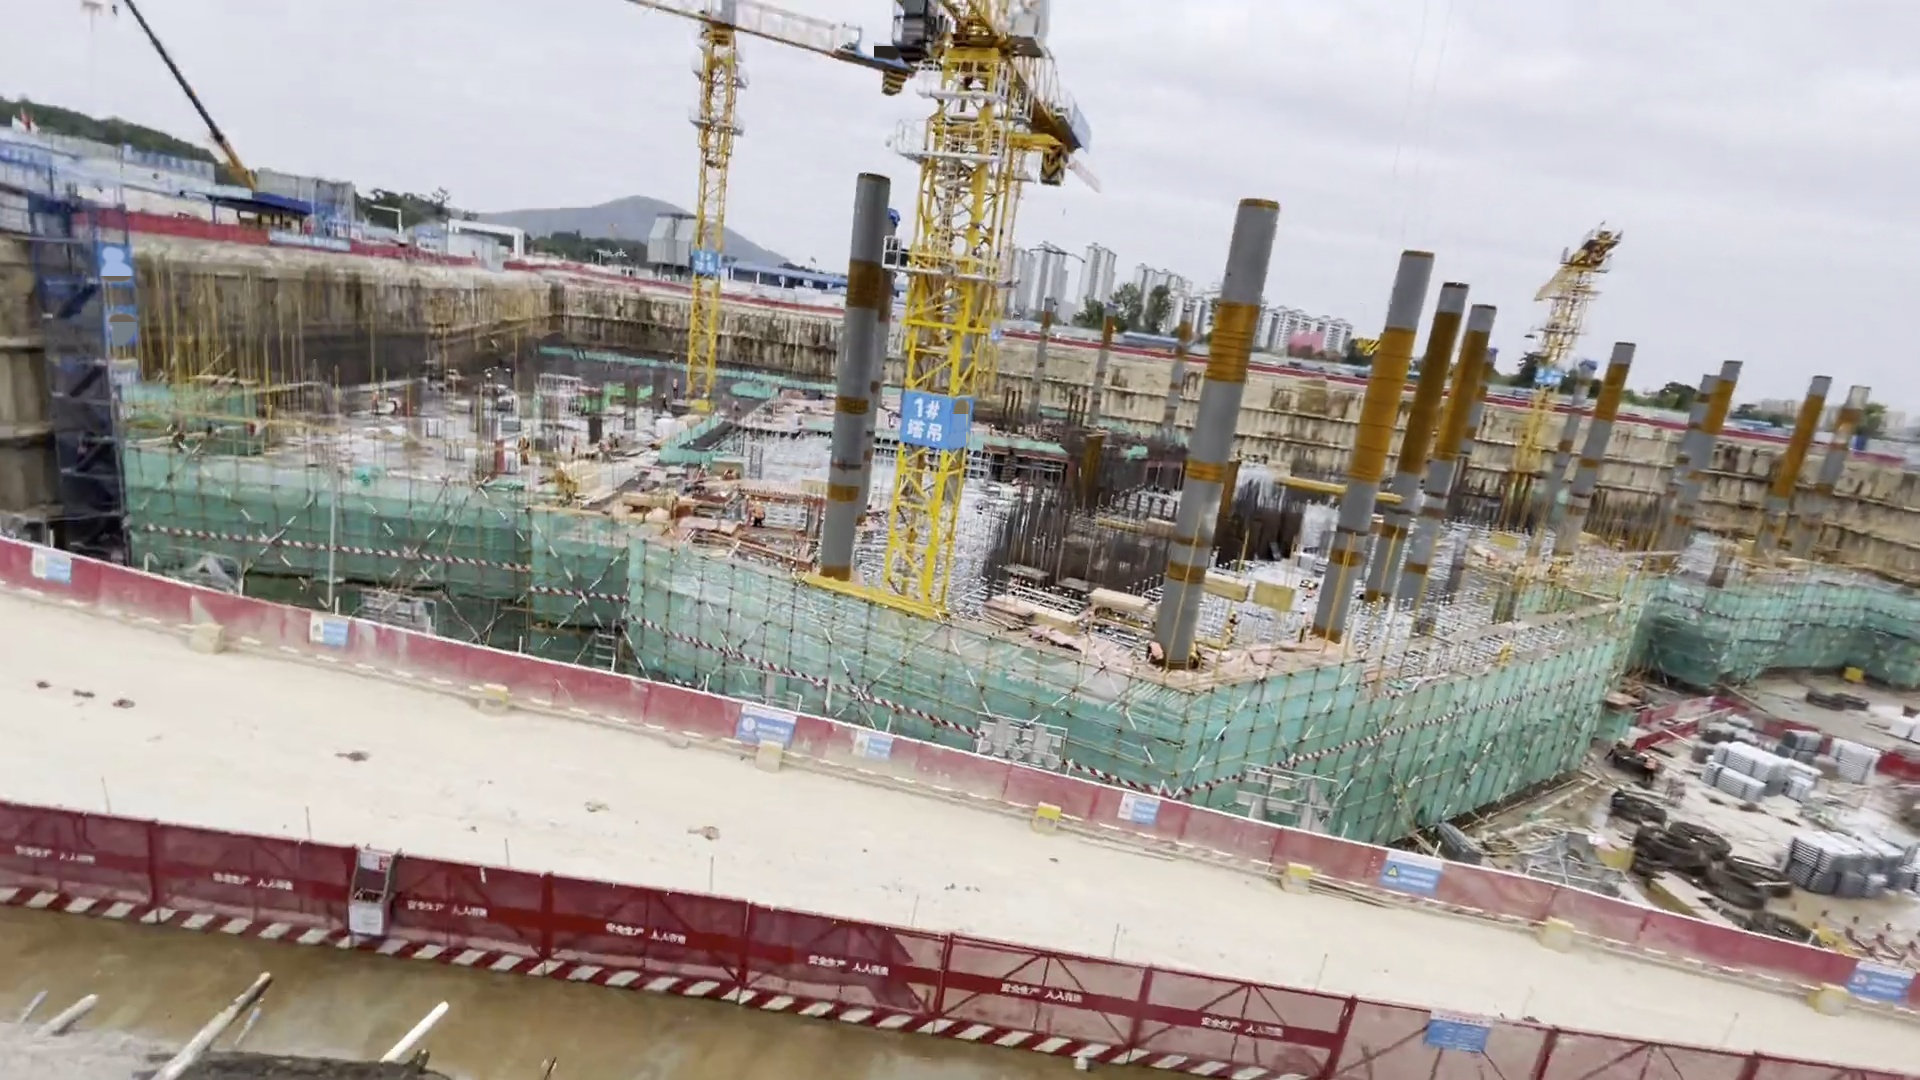fence: (1, 530, 1867, 1058)
scaffold: (1704, 723, 1920, 909)
slogan: (1371, 843, 1456, 906), (1422, 1001, 1491, 1064), (1857, 957, 1920, 1013), (741, 694, 796, 753), (29, 535, 84, 591), (302, 604, 356, 655), (1120, 787, 1163, 829), (851, 731, 893, 773)
